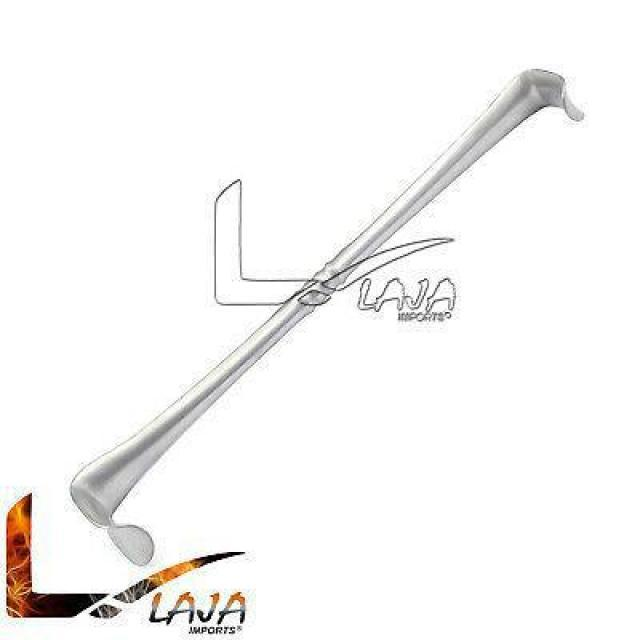Richardson: (64, 64, 586, 570)
